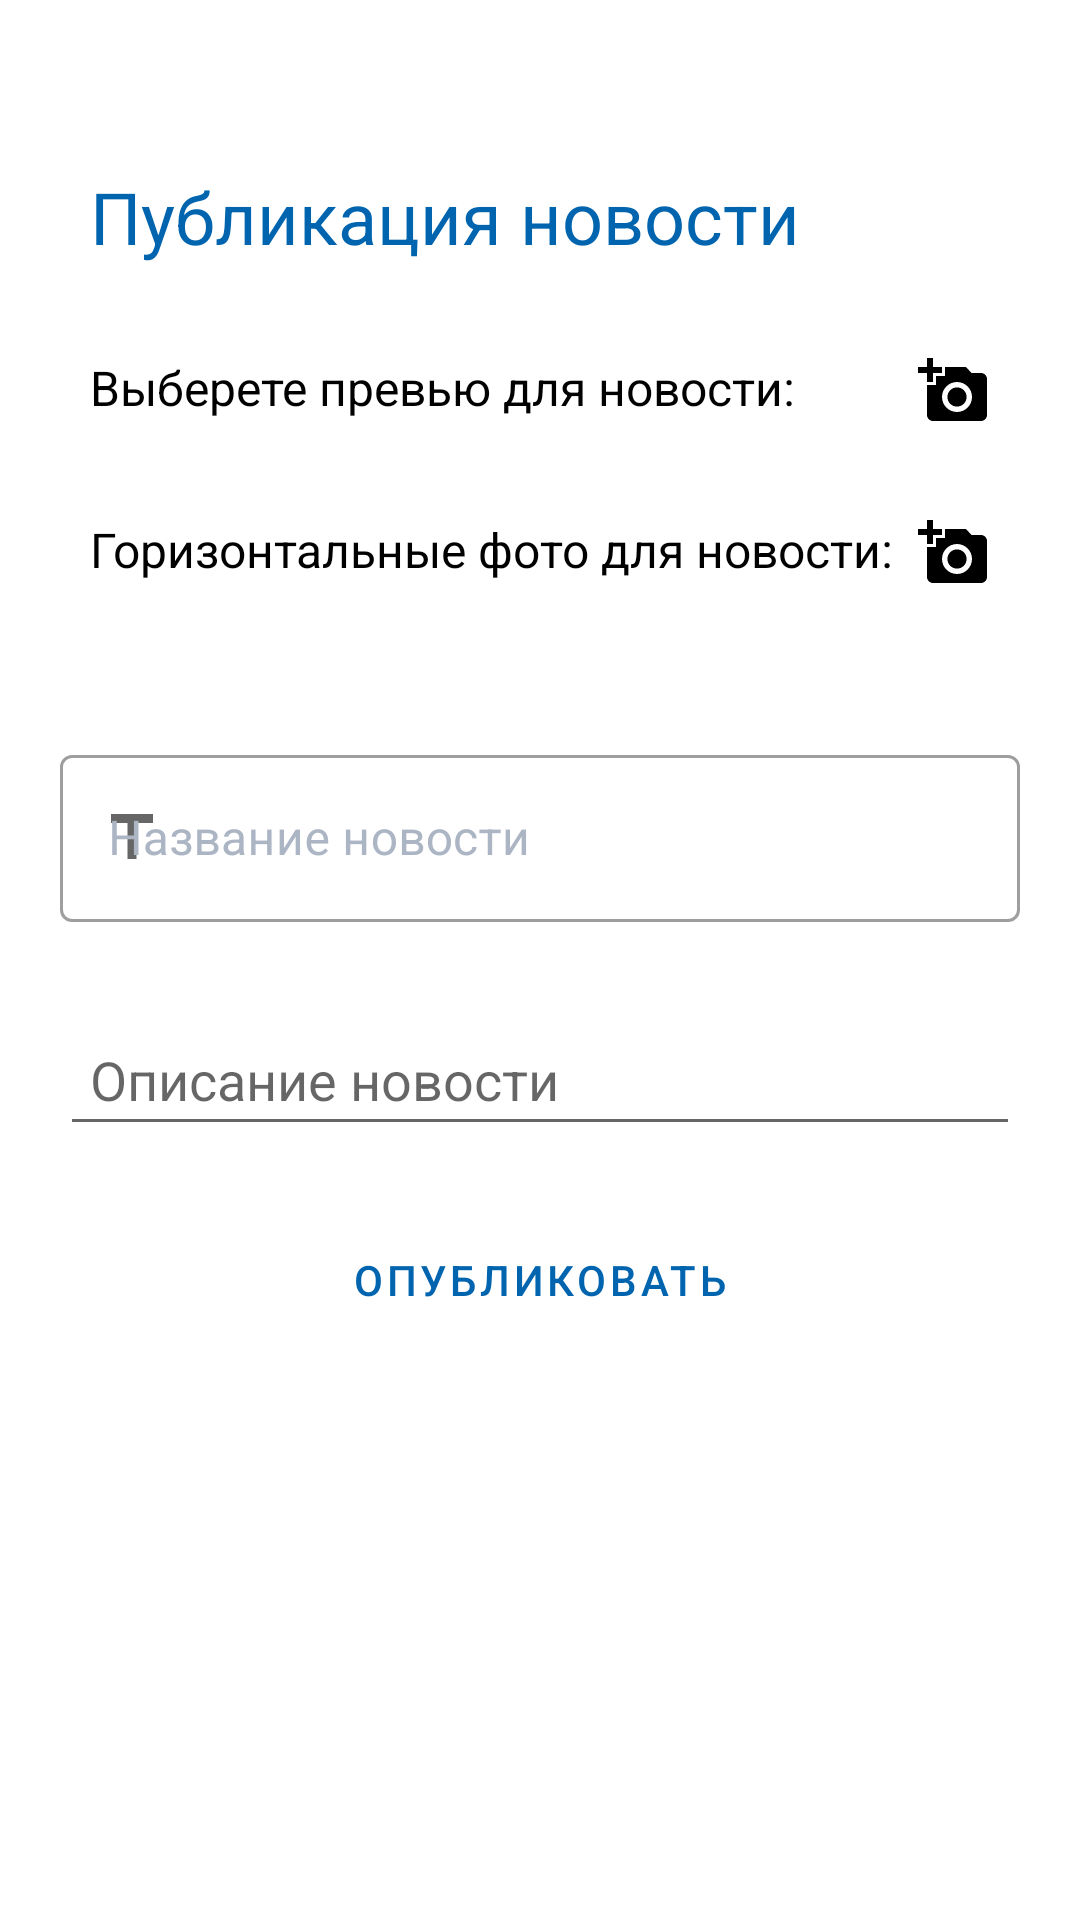

Icon click points for this 1080px×1920px phone screenshot, format (x,y):
add photo: (952,389), (952,551)
